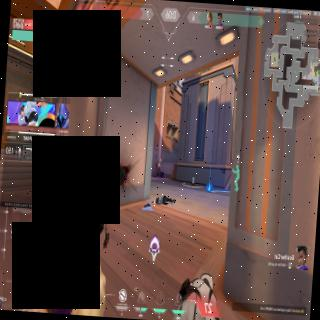ENEMY-BODY: (154, 160, 162, 178)
ENEMY-HEAD: (158, 161, 160, 164)
